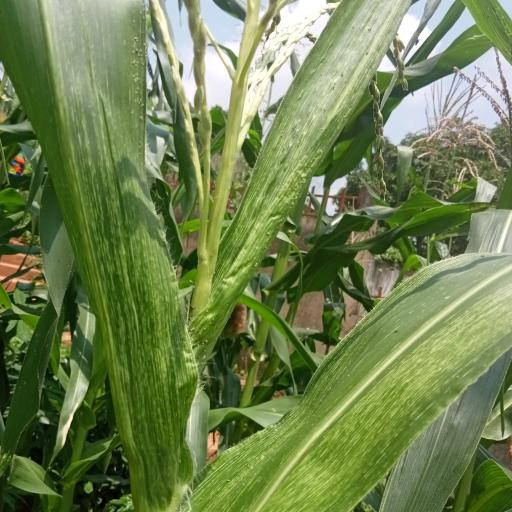Corn_Streak: (0, 0, 204, 502), (174, 250, 512, 507)
